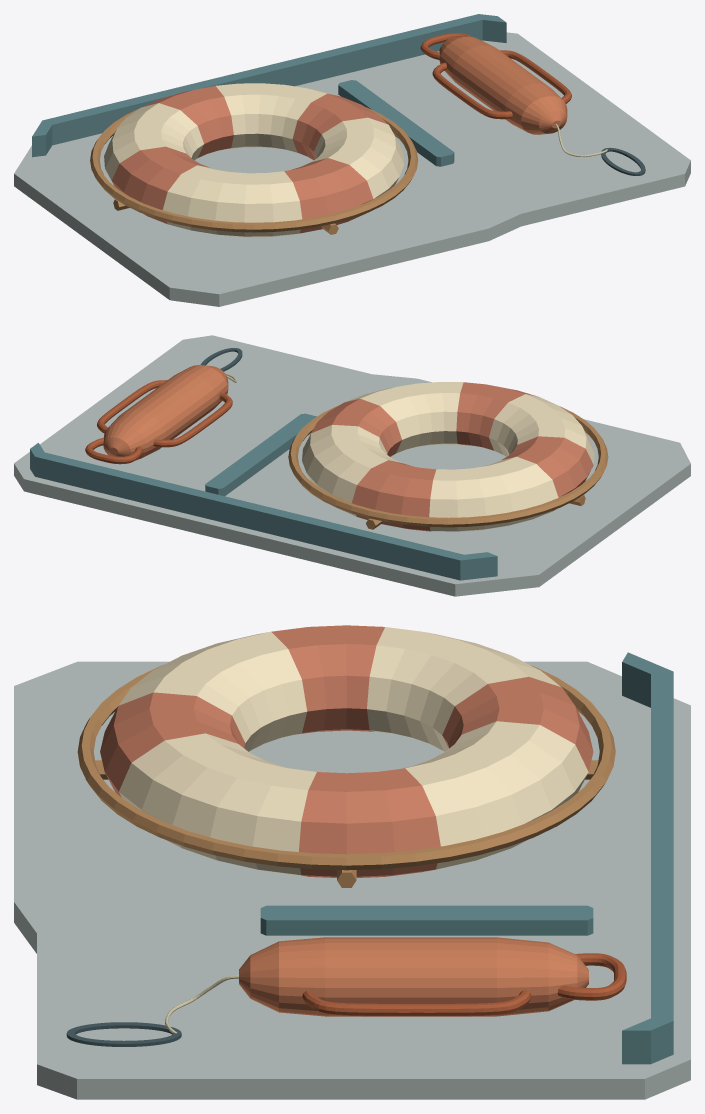
3 views of the same model, one above another, from view 1: azimuth 30°, elevation 25°; view 2: azimuth 150°, elevation 25°; view 3: azimuth 270°, elevation 25° (orthographic). The views are drawn at different scales.
Parts seen in each view (by area): view 1: SceneWholeChamferedDryComparisonDeck, harbor-lifebuoy-01, SceneWholeBentRearReturnRail, WholeBluntNosedStreamlinedCanBody, SceneWholeLowCentralDivider, WholeLeftLongSideHandle, WholeRightLongSideHandle, WholeFlatOpenShoulderStrapLoop, WholeReturnedRearHandle; view 2: SceneWholeChamferedDryComparisonDeck, harbor-lifebuoy-01, SceneWholeBentRearReturnRail, WholeBluntNosedStreamlinedCanBody, SceneWholeLowCentralDivider, WholeLeftLongSideHandle, WholeRightLongSideHandle, WholeReturnedRearHandle; view 3: SceneWholeChamferedDryComparisonDeck, harbor-lifebuoy-01, WholeBluntNosedStreamlinedCanBody, SceneWholeBentRearReturnRail, SceneWholeLowCentralDivider, WholeRightLongSideHandle, WholeReturnedRearHandle, WholeFlatOpenShoulderStrapLoop.
Boxes of the visible parts, x1,y1,x2,y2 form: SceneWholeChamferedDryComparisonDeck: (14, 32, 690, 306); harbor-lifebuoy-01: (90, 83, 418, 237); SceneWholeBentRearReturnRail: (32, 14, 506, 157); WholeBluntNosedStreamlinedCanBody: (439, 36, 567, 134); SceneWholeLowCentralDivider: (338, 80, 454, 166); WholeLeftLongSideHandle: (432, 62, 512, 119); WholeRightLongSideHandle: (500, 50, 571, 103); WholeFlatOpenShoulderStrapLoop: (601, 147, 645, 175); WholeReturnedRearHandle: (420, 33, 471, 59); SceneWholeChamferedDryComparisonDeck: (14, 335, 690, 596); harbor-lifebuoy-01: (288, 382, 608, 532); SceneWholeBentRearReturnRail: (30, 443, 497, 580); WholeBluntNosedStreamlinedCanBody: (103, 365, 228, 460); SceneWholeLowCentralDivider: (205, 413, 316, 496); WholeLeftLongSideHandle: (153, 392, 232, 447); WholeRightLongSideHandle: (97, 380, 167, 433); WholeReturnedRearHandle: (85, 437, 142, 464); SceneWholeChamferedDryComparisonDeck: (14, 661, 690, 1099); harbor-lifebuoy-01: (77, 625, 615, 887); WholeBluntNosedStreamlinedCanBody: (239, 937, 588, 1016); SceneWholeBentRearReturnRail: (622, 652, 673, 1064); SceneWholeLowCentralDivider: (260, 905, 593, 935); WholeRightLongSideHandle: (302, 990, 531, 1016); WholeReturnedRearHandle: (557, 953, 626, 1000); WholeFlatOpenShoulderStrapLoop: (66, 1022, 181, 1046).
Bounding box in the file's own units: 1.72 × 0.2064 × 1.18.
